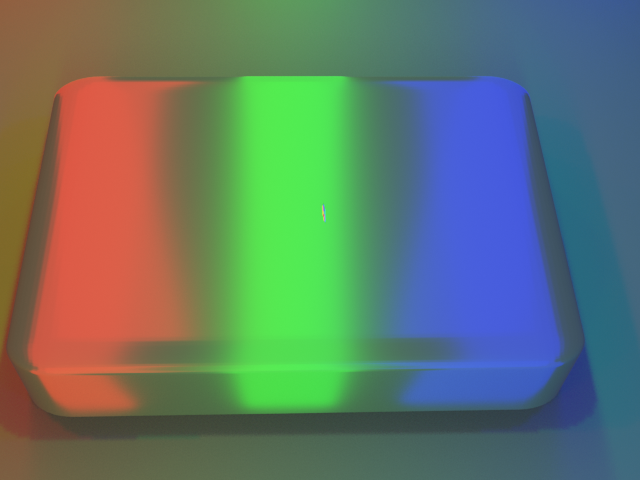scratch: (279, 184, 368, 234)
